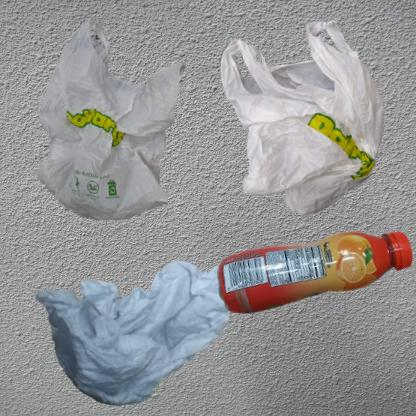bolsa: (10, 10, 236, 265), (213, 10, 410, 239)
botella: (213, 213, 416, 336)
papel: (10, 213, 259, 416)
